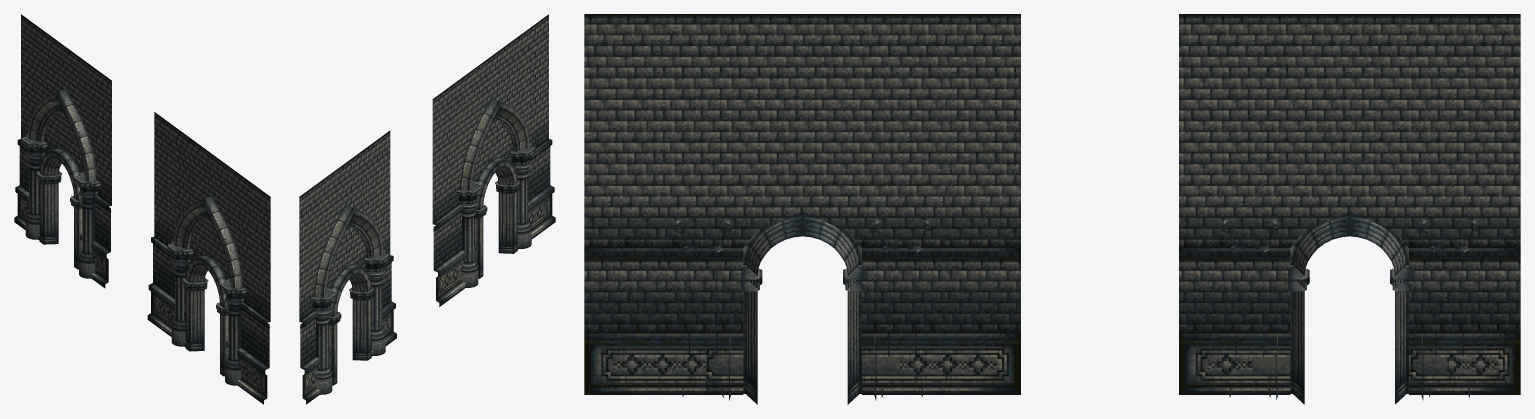
Rendered from EnvMdrMD_Daiseidou_A_RoomEnter_A_8W.FBX.
3 renders of one model, left to right at view 1: azimuth 30°, elevation 25°; view 2: azimuth 150°, elevation 25°; view 3: azimuth 270°, elevation 25°, orthographic. The views are drawn at different scales.
Parts seen in each view (by area): view 1: EnvMdrMD_Daiseidou_A_RoomEnter_A_10W, EnvMdrMD_Daiseidou_A_RoomEnter_A_8W; view 2: EnvMdrMD_Daiseidou_A_RoomEnter_A_10W, EnvMdrMD_Daiseidou_A_RoomEnter_A_8W; view 3: EnvMdrMD_Daiseidou_A_RoomEnter_A_10W, EnvMdrMD_Daiseidou_A_RoomEnter_A_8W.
Part boxes in pixels (<box>): EnvMdrMD_Daiseidou_A_RoomEnter_A_10W: <box>147,112,270,404</box>; EnvMdrMD_Daiseidou_A_RoomEnter_A_8W: <box>14,14,111,288</box>; EnvMdrMD_Daiseidou_A_RoomEnter_A_10W: <box>432,14,555,306</box>; EnvMdrMD_Daiseidou_A_RoomEnter_A_8W: <box>299,130,396,404</box>; EnvMdrMD_Daiseidou_A_RoomEnter_A_10W: <box>584,14,1020,404</box>; EnvMdrMD_Daiseidou_A_RoomEnter_A_8W: <box>1179,14,1520,404</box>.
Size of the model in its own units: 110 by 900 by 1973.
Materials: 1 (1 with a texture image).
